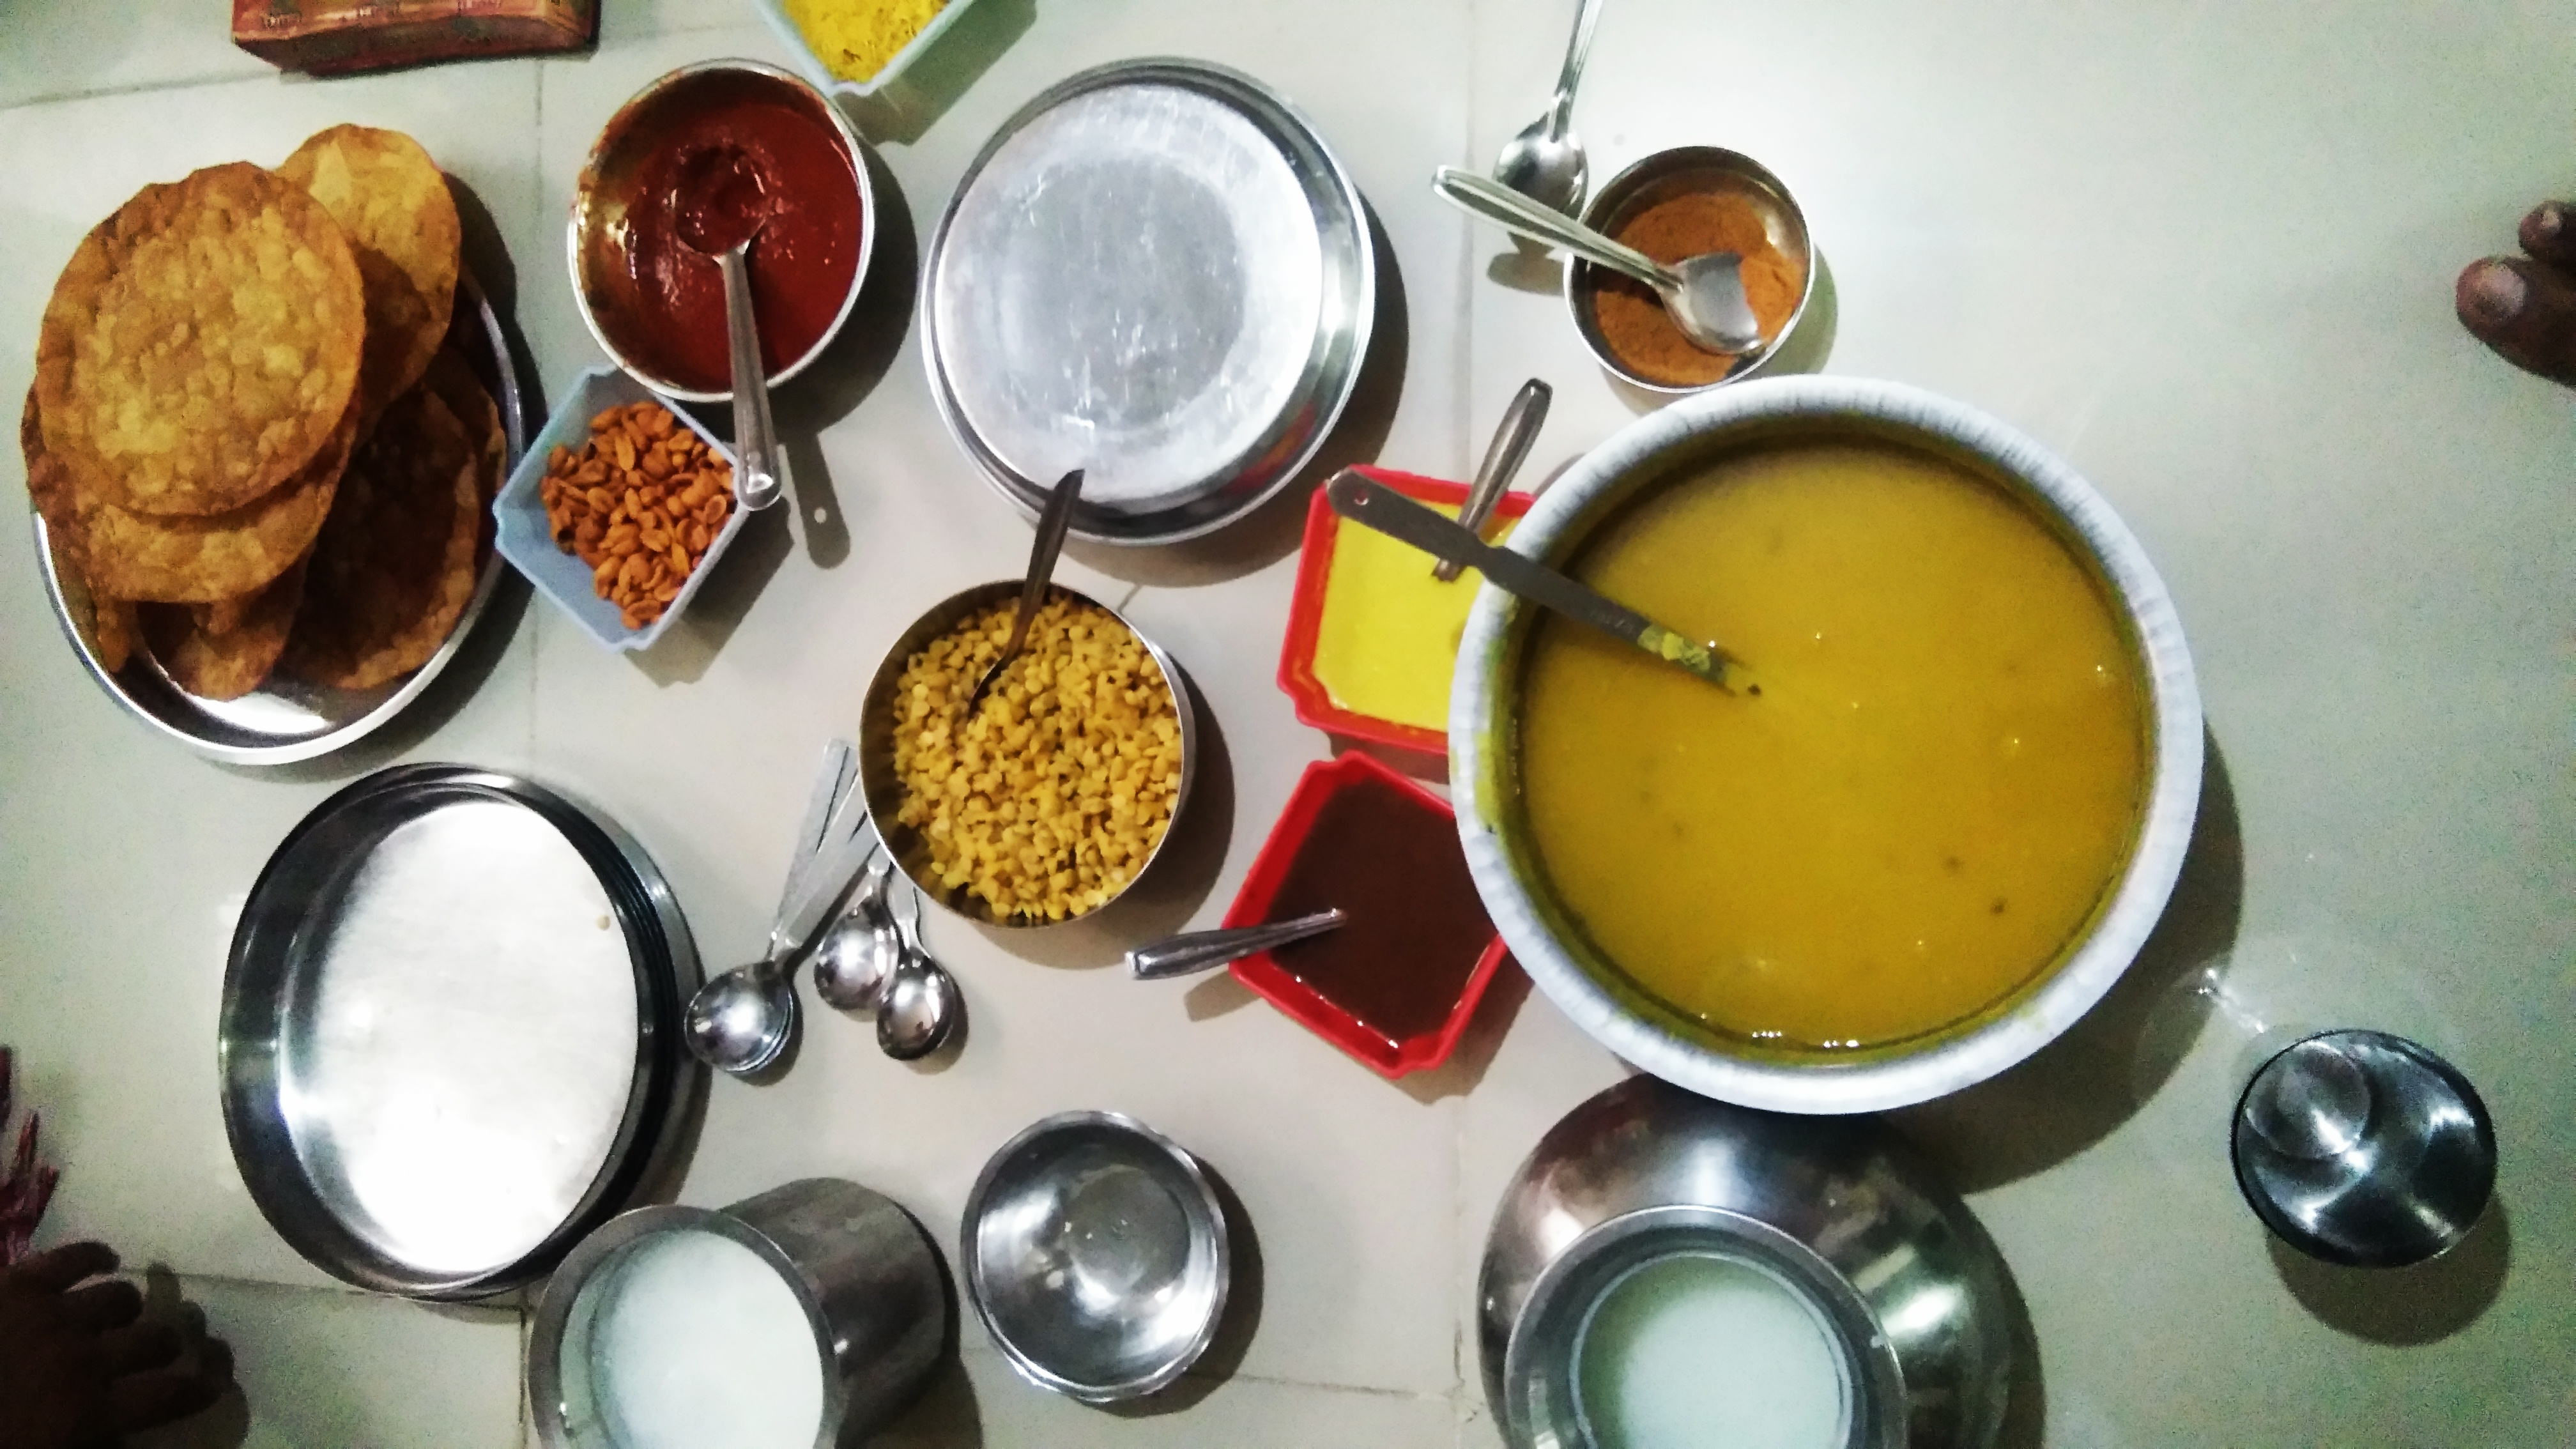food: (1500, 402, 2160, 1063), (16, 115, 522, 702), (524, 1168, 961, 1449), (570, 57, 870, 395), (883, 582, 1184, 920), (1244, 771, 1502, 1054), (1552, 1249, 1875, 1449), (1576, 147, 1817, 387), (1306, 487, 1529, 740), (531, 380, 740, 633), (782, 0, 957, 83)
